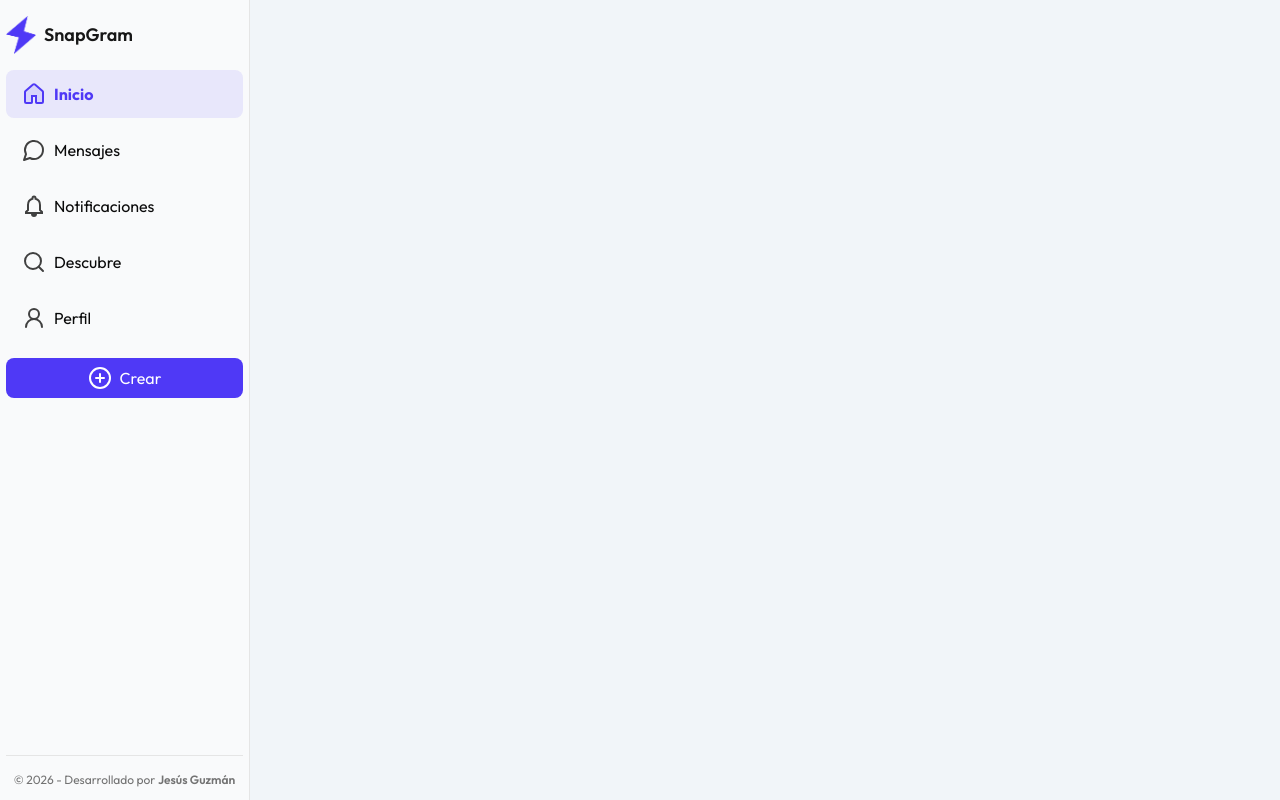
Test case: CreatePostModal › debe mostrar toast de error y cerrar el modal si falla la creación del post
Click the button with test id "create-publication-btn" at (124, 378), box top-left (6, 358), bottom-right (243, 398)
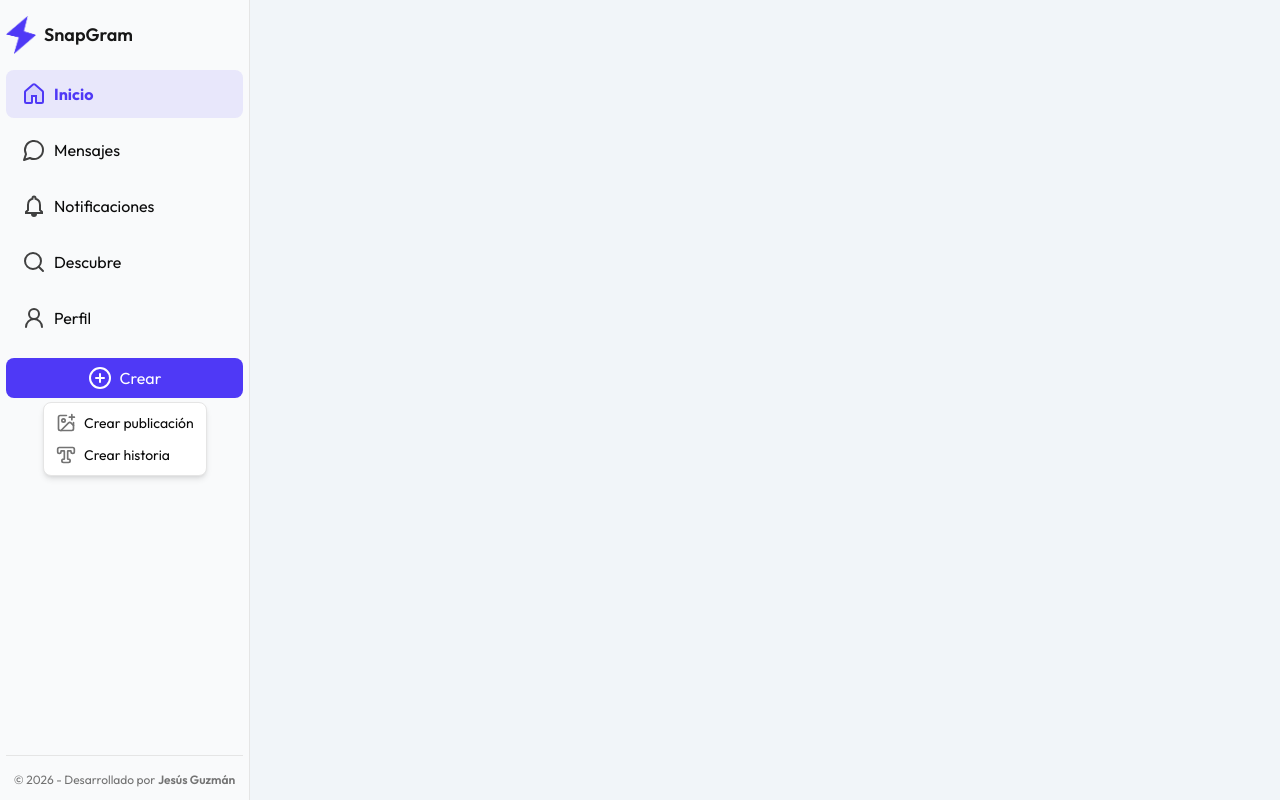
Click the menu item with test id "create-post-option" at (125, 423), box top-left (48, 407), bottom-right (202, 439)
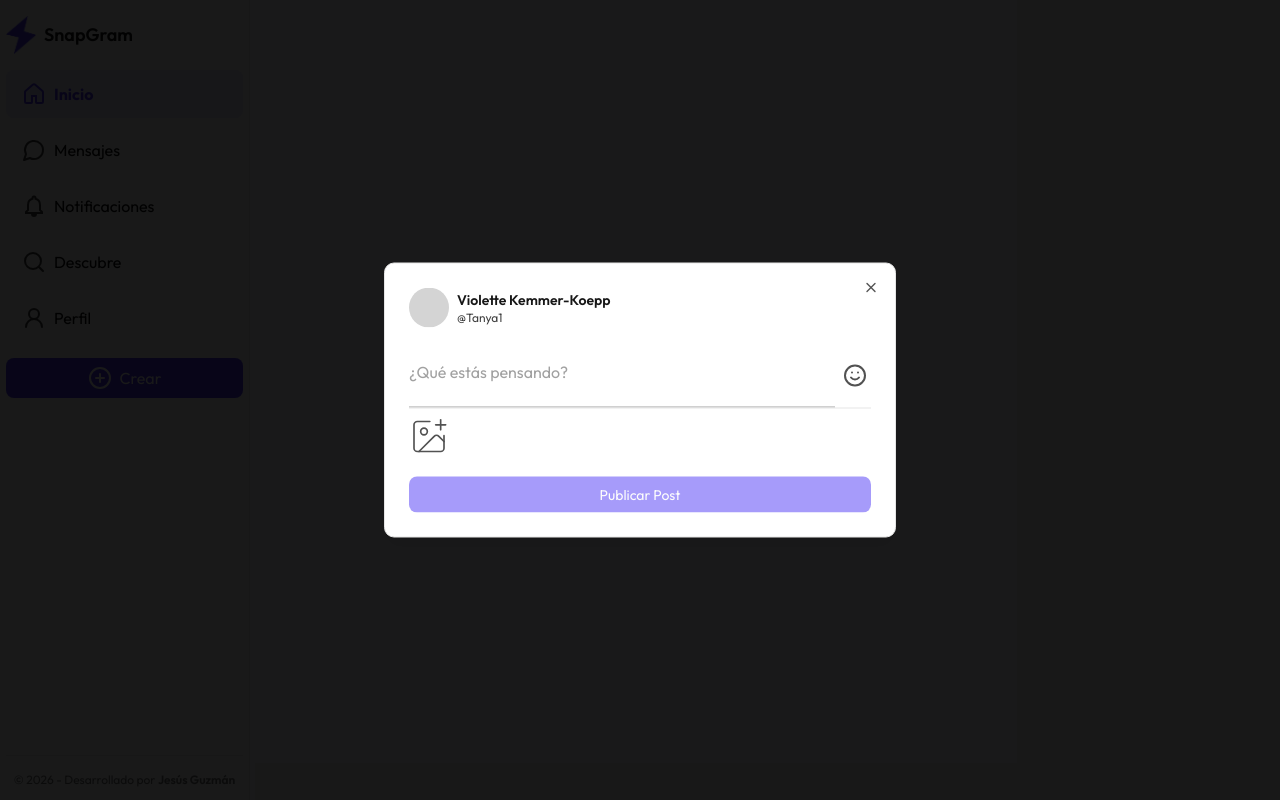
Expected: the form with test id "create-post-form" is shown, top-left (409, 344), bottom-right (871, 512)
Type "Post de prueba..." into the text box with test id "create-post-input" at (622, 376), box top-left (409, 344), bottom-right (835, 408)
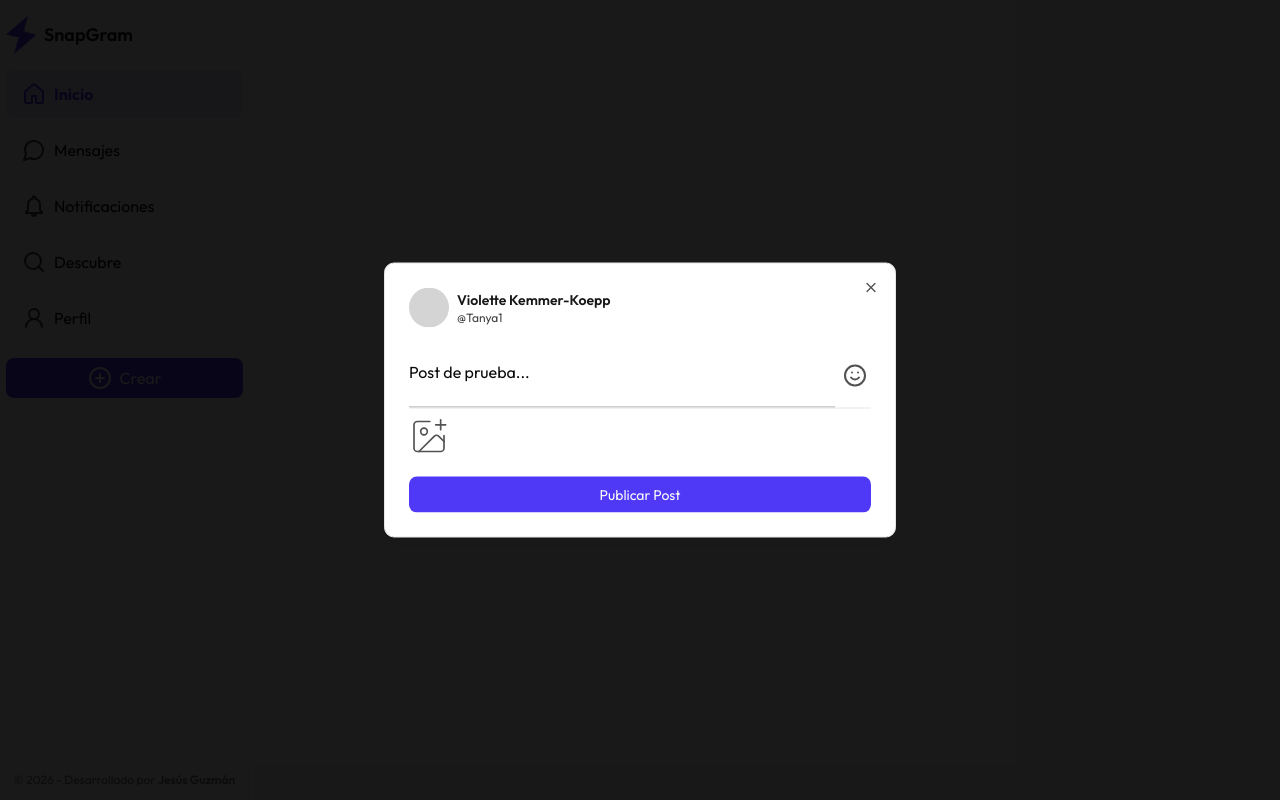
Click the button with test id "create-post-submit-btn" at (640, 494), box top-left (409, 476), bottom-right (871, 512)
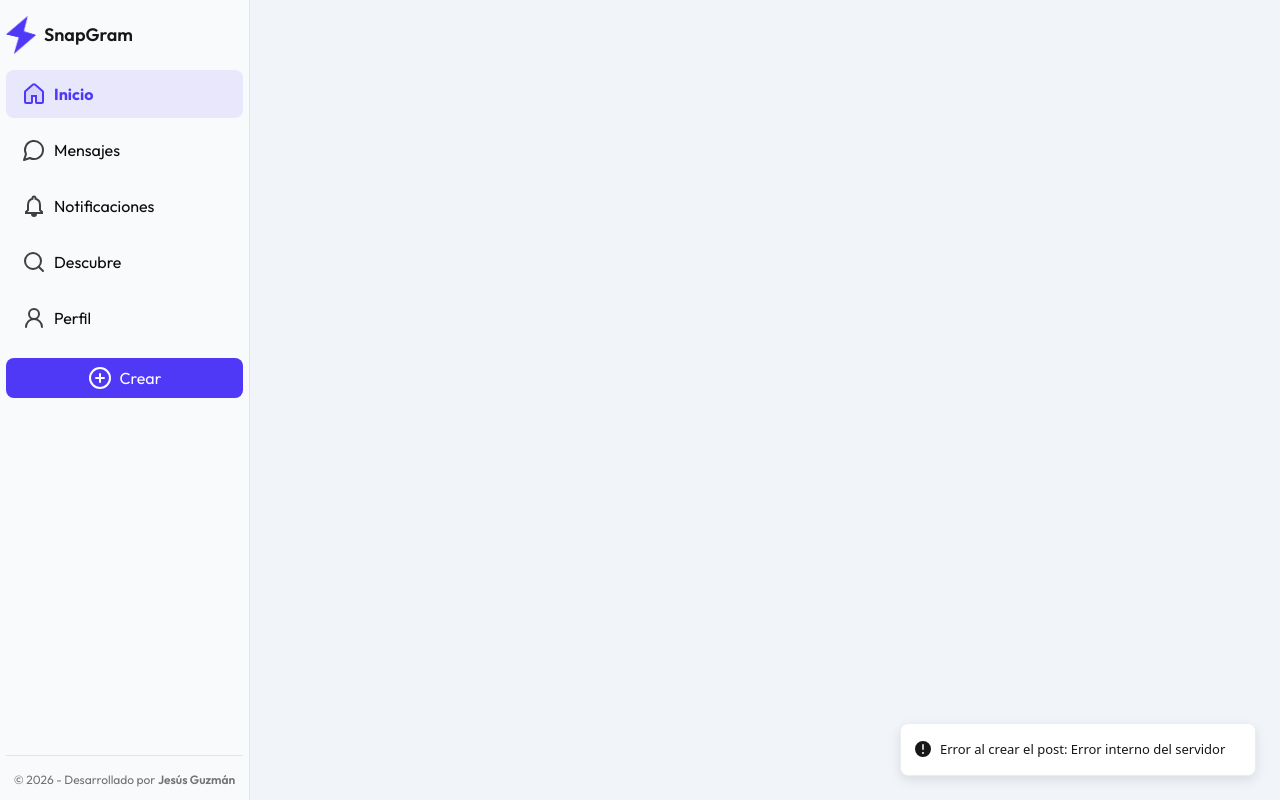
Expected: the list item with test id "toast-post-error" is shown, top-left (900, 722), bottom-right (1256, 776)
Expected: the element with test id "create-post-modal" is gone
